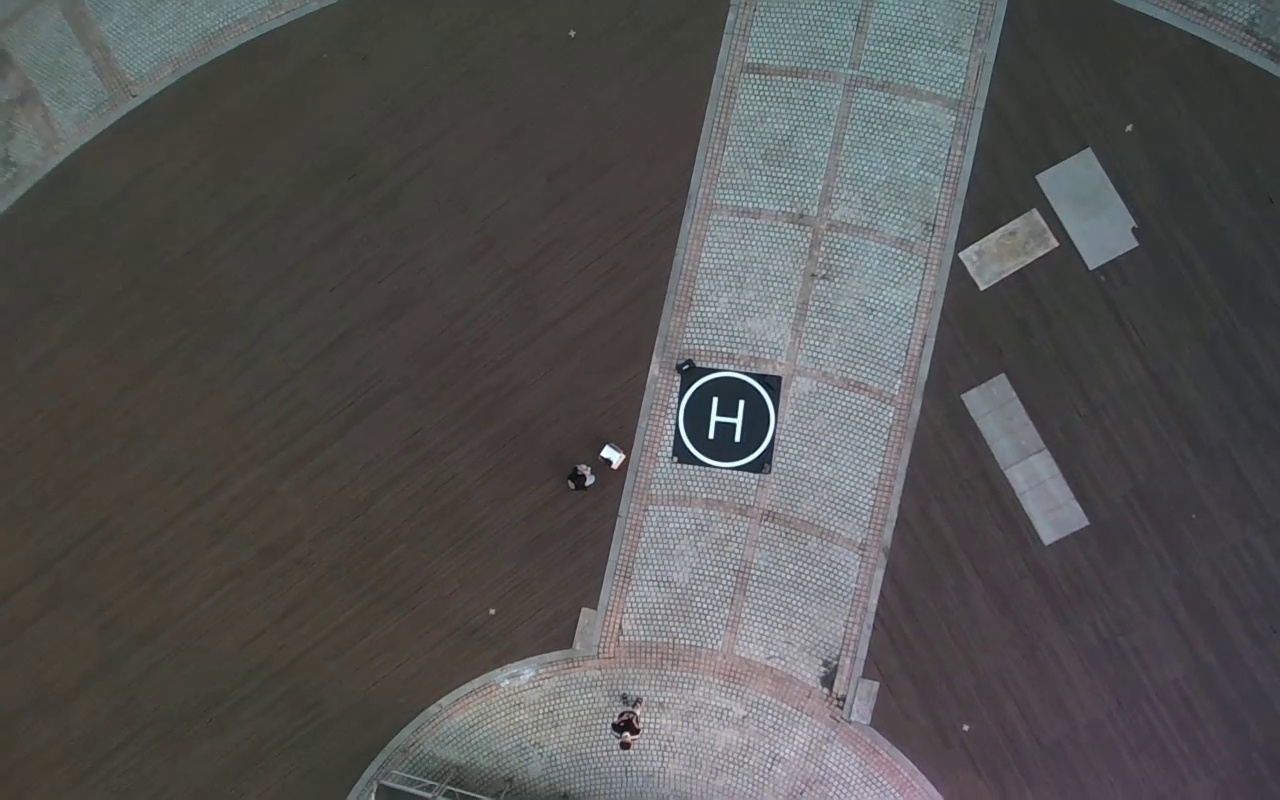H: (707, 395, 744, 443)
heliport: (677, 368, 775, 468)
